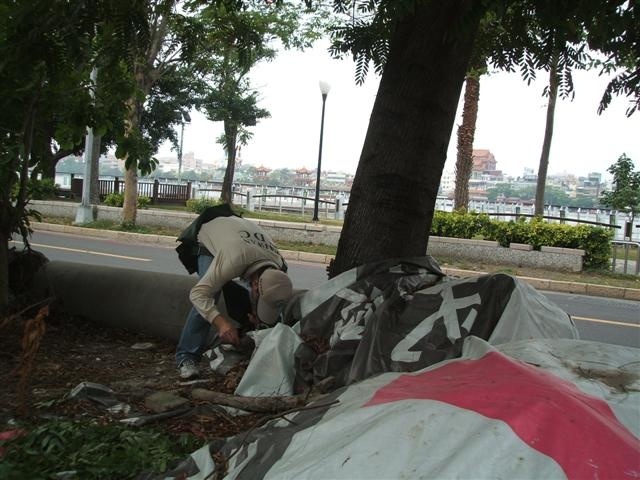plastic_bag: (231, 341, 640, 479), (288, 252, 578, 371)
